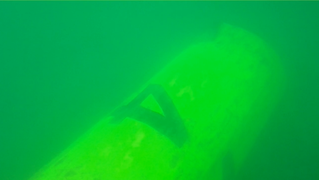4: (107, 82, 190, 148), (221, 150, 237, 180)
pipe: (28, 21, 291, 179)
